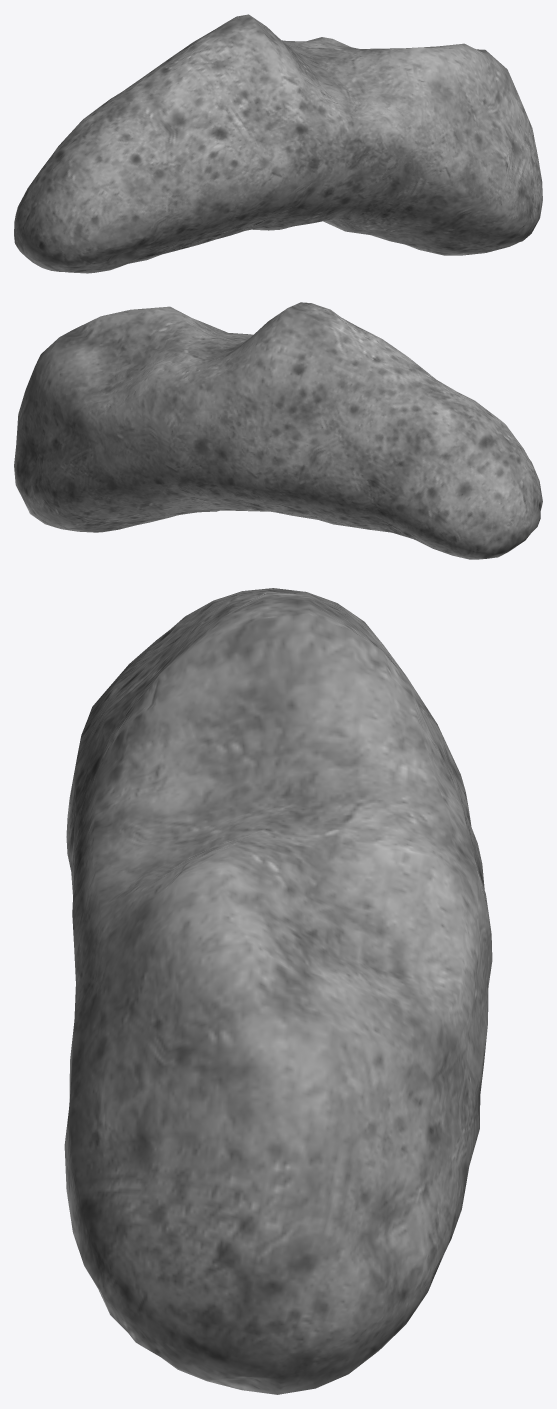
The model's file is eros.glb.
3 renders of one model, top to bottom at view 1: azimuth 30°, elevation 25°; view 2: azimuth 150°, elevation 25°; view 3: azimuth 270°, elevation 25°, orthographic. The views are drawn at different scales.
Visible parts, largest first — view 1: eros_LP; view 2: eros_LP; view 3: eros_LP.
Boxes of the visible parts, <box> form: eros_LP: <box>14,14,542,273</box>; eros_LP: <box>14,302,542,559</box>; eros_LP: <box>64,588,492,1394</box>.
Bounding box in the file's own units: 3260 × 1681 × 1185.
1 material, 1 textured.
